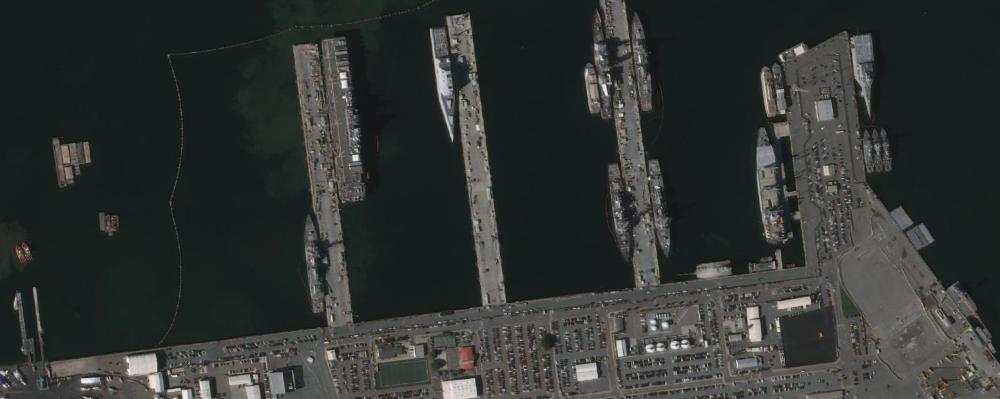destroyer: (301, 214, 325, 313)
fregate: (606, 159, 635, 265), (629, 11, 654, 114), (647, 158, 672, 259)
littoral combat ship: (851, 27, 877, 117)
pha: (319, 35, 368, 208)
tender: (752, 125, 789, 246)
